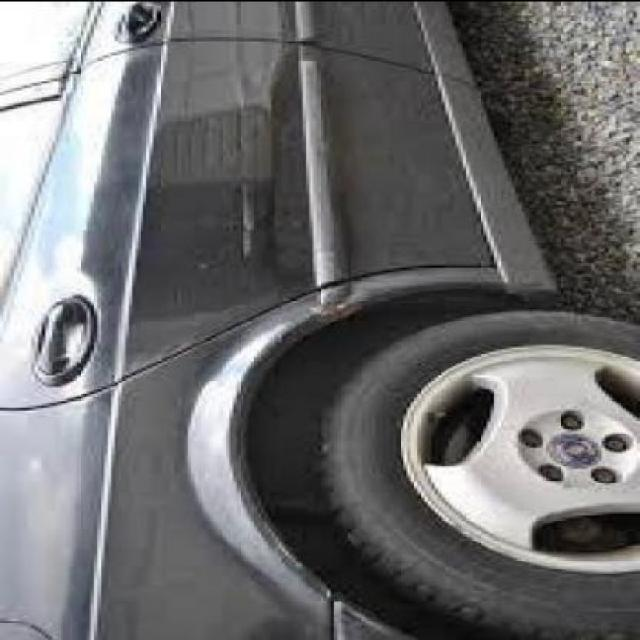damage: (270, 240, 391, 333), (224, 3, 260, 262)
